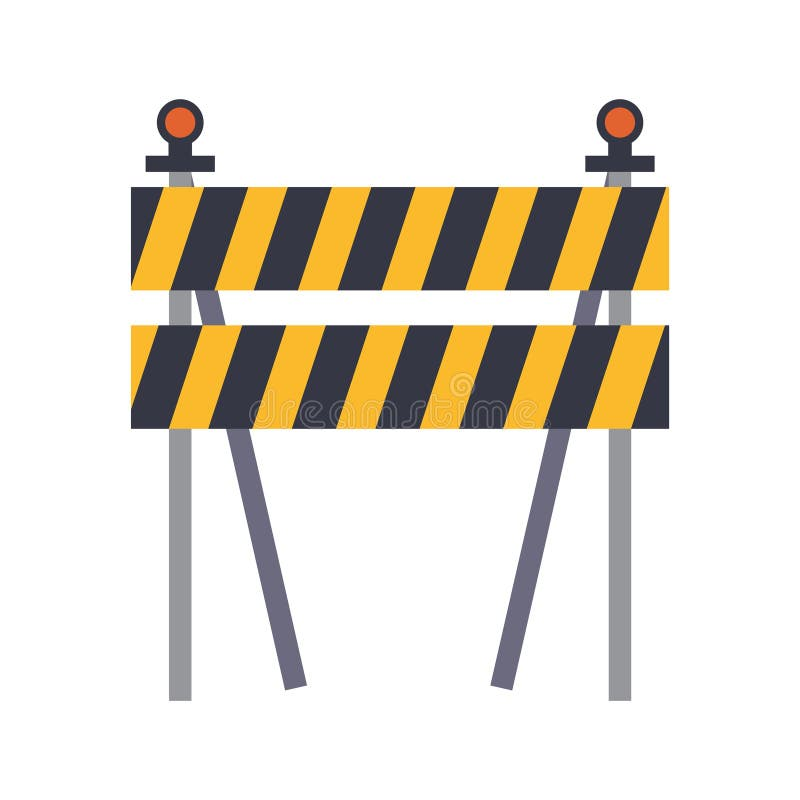Barrier: (101, 77, 694, 728)
